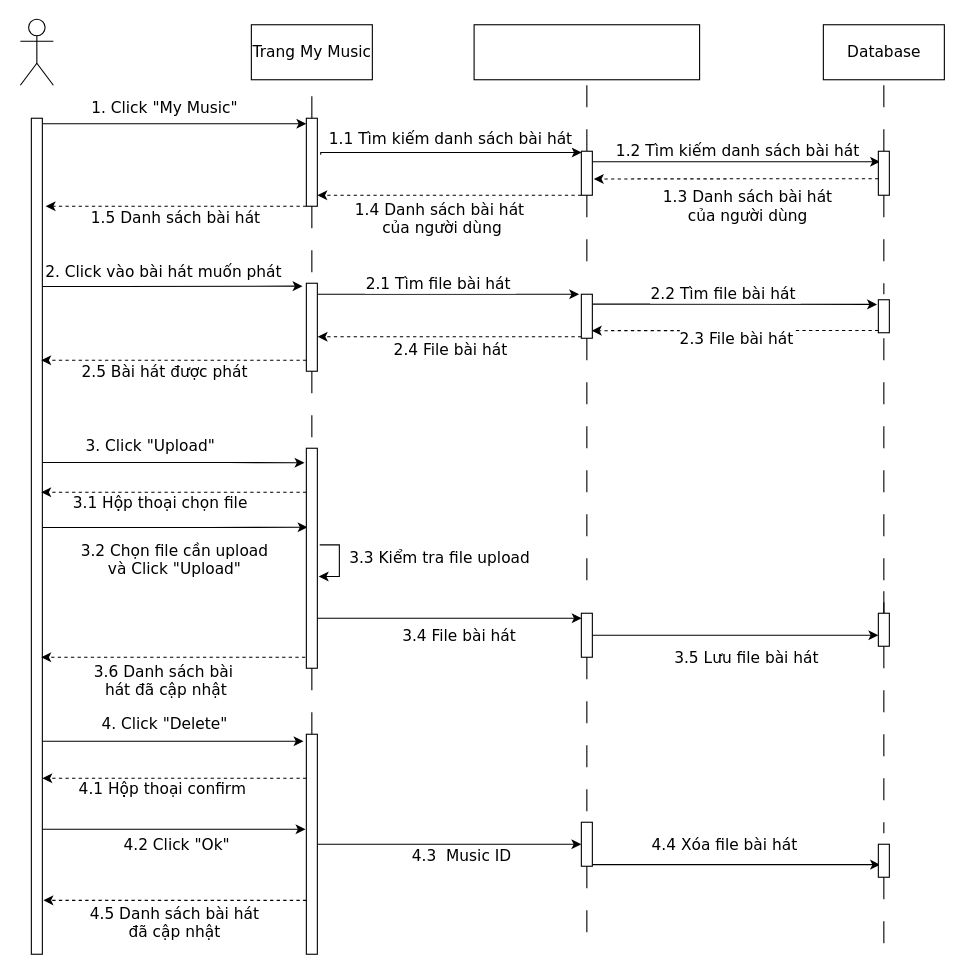
Image size: 964x974. Some labels were removed from this diagram. Here are the shapes that lost their labels. From the top down, the box of each, then its label:
(19, 18, 53, 85): User
(473, 24, 700, 80): MyMusic:MyMusicController
